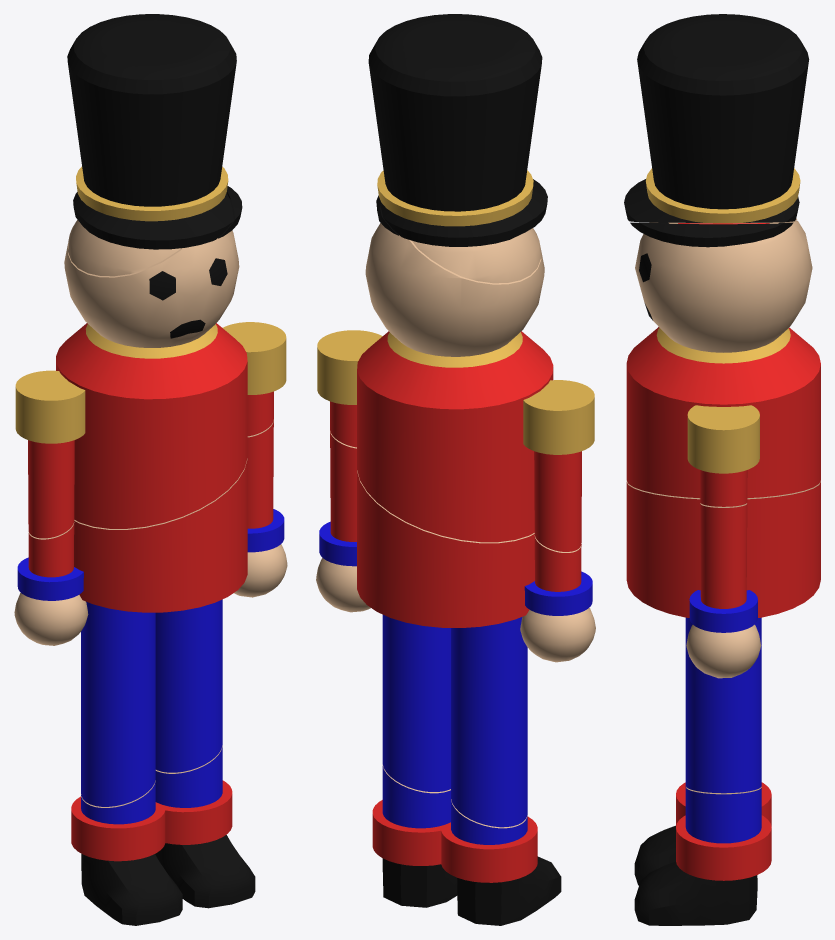
The model's file is TS_Broken.fbx.
The picture shows the model from 3 angles, left to right: view 1: azimuth 30°, elevation 25°; view 2: azimuth 150°, elevation 25°; view 3: azimuth 270°, elevation 25°; orthographic projection. The views are drawn at different scales.
Parts seen in each view (by area): view 1: ToySoldierBrk5, ToySoldierBrk3, ToySoldierBrk1, ToySoldierBrk2; view 2: ToySoldierBrk5, ToySoldierBrk3, ToySoldierBrk1, ToySoldierBrk2; view 3: ToySoldierBrk5, ToySoldierBrk3, ToySoldierBrk1, ToySoldierBrk2.
Part boxes in pixels (bbox=[...]): ToySoldierBrk5: bbox=[15, 186, 286, 538]; ToySoldierBrk3: bbox=[14, 420, 287, 807]; ToySoldierBrk1: bbox=[67, 14, 236, 276]; ToySoldierBrk2: bbox=[71, 745, 255, 925]; ToySoldierBrk5: bbox=[317, 195, 594, 551]; ToySoldierBrk3: bbox=[316, 431, 595, 828]; ToySoldierBrk1: bbox=[368, 14, 547, 283]; ToySoldierBrk2: bbox=[372, 765, 561, 925]; ToySoldierBrk5: bbox=[626, 220, 820, 506]; ToySoldierBrk3: bbox=[626, 481, 820, 793]; ToySoldierBrk1: bbox=[624, 14, 809, 223]; ToySoldierBrk2: bbox=[634, 782, 771, 925].
Bounding box in the file's own units: 25.66 × 78.22 × 16.41.
